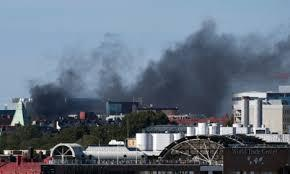smoke: (19, 17, 290, 132)
